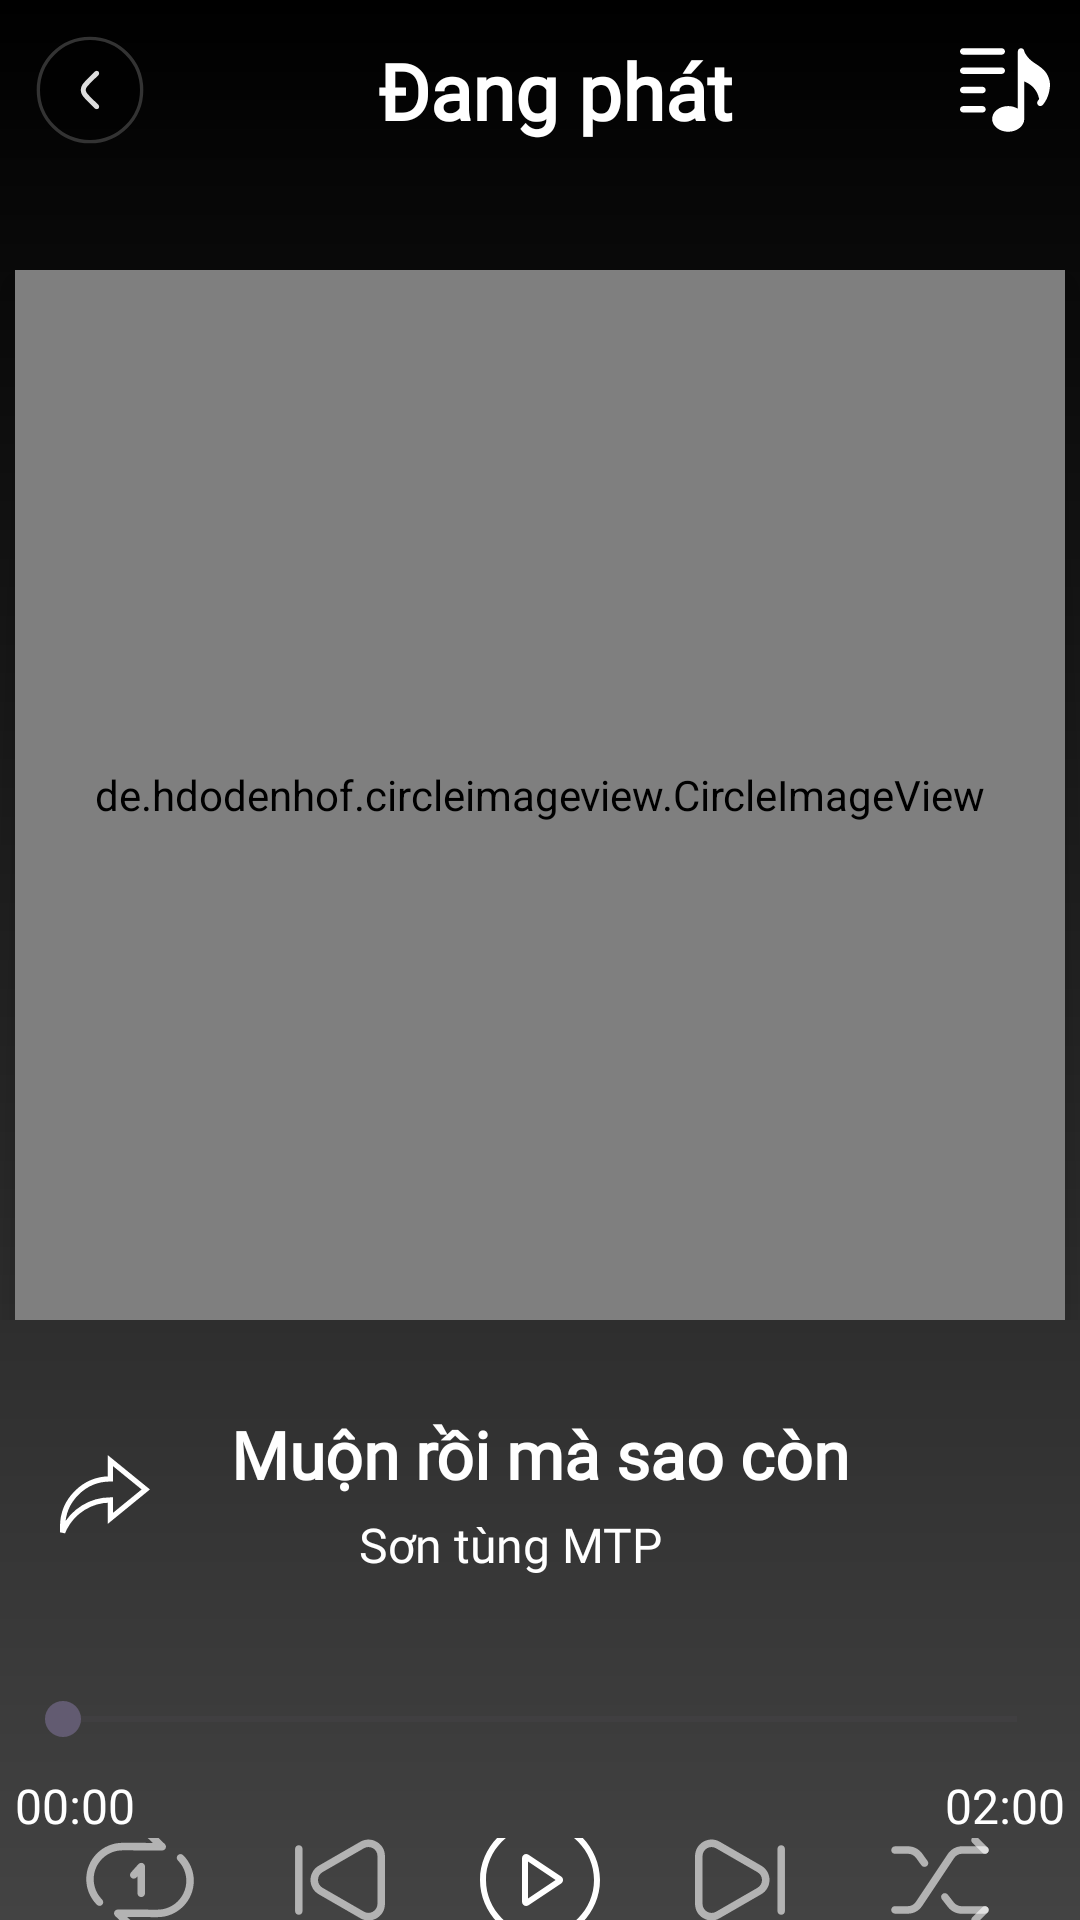

Icon click points for this 1080px×1920px phone screenshot, format point (x, y):
back: point (90, 90)
playlist: point (1005, 90)
share music: point (105, 1494)
